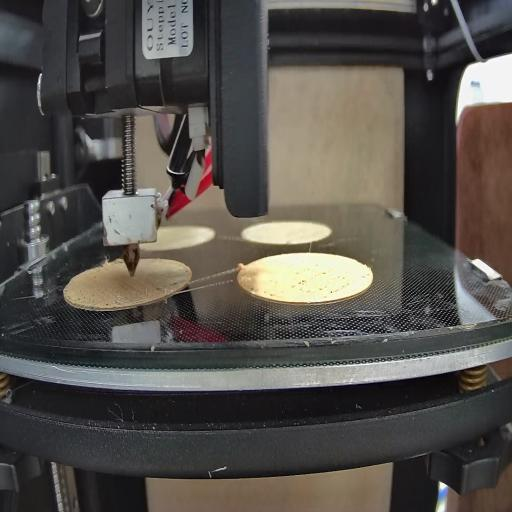under_extrusion: (288, 264, 359, 302), (67, 285, 124, 312), (248, 277, 276, 304), (152, 278, 186, 296)
